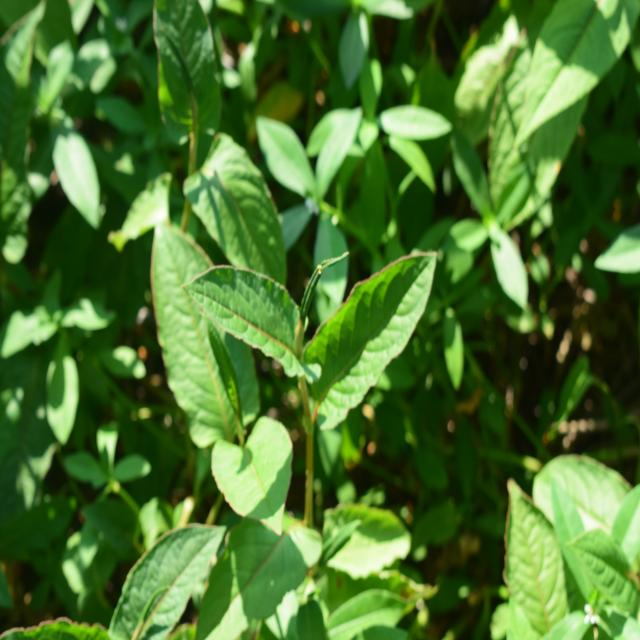Chinese_knotweed: (155, 208, 420, 510)
